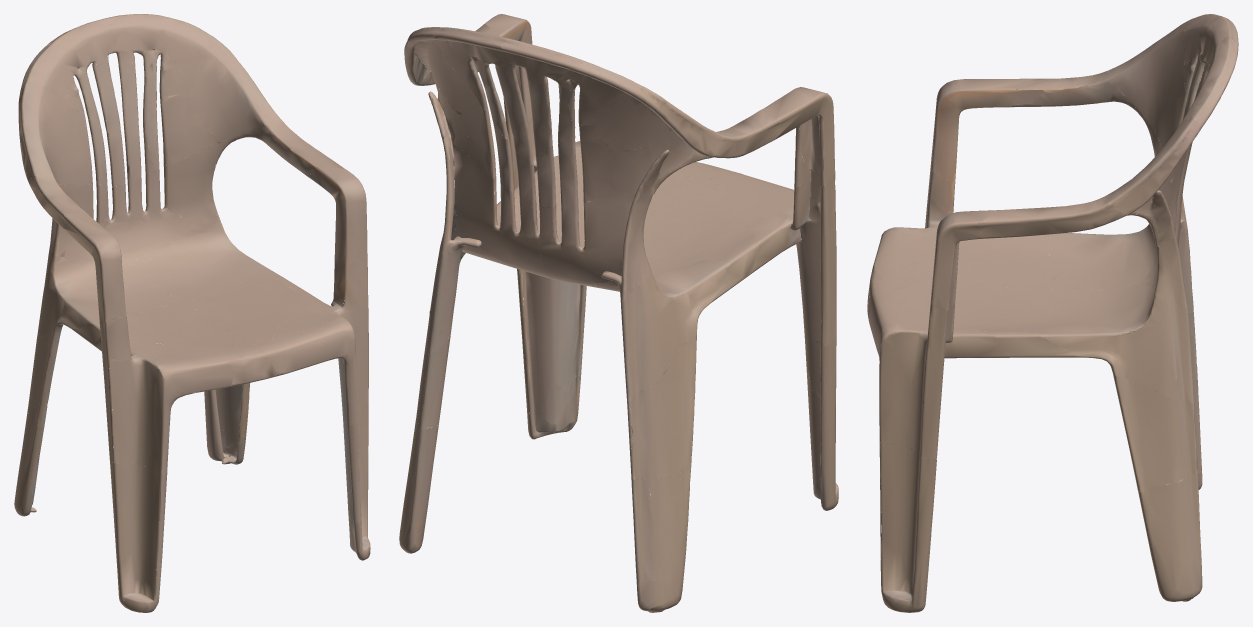
File: storm.glb
3 renders of one model, left to right at view 1: azimuth 30°, elevation 25°; view 2: azimuth 150°, elevation 25°; view 3: azimuth 270°, elevation 25°, orthographic. The views are drawn at different scales.
Parts seen in each view (by area): view 1: tripo_node_974b757b-bdb0-48c7-9663-4035d4ea2b82; view 2: tripo_node_974b757b-bdb0-48c7-9663-4035d4ea2b82; view 3: tripo_node_974b757b-bdb0-48c7-9663-4035d4ea2b82.
Part boxes in pixels (x1,y1,x2,y2): tripo_node_974b757b-bdb0-48c7-9663-4035d4ea2b82: (14,14,370,612); tripo_node_974b757b-bdb0-48c7-9663-4035d4ea2b82: (399,14,838,612); tripo_node_974b757b-bdb0-48c7-9663-4035d4ea2b82: (867,14,1238,612).
Bounding box in the file's own units: 0.5036 × 0.8263 × 0.5452.
Materials: 1 (1 with a texture image).
